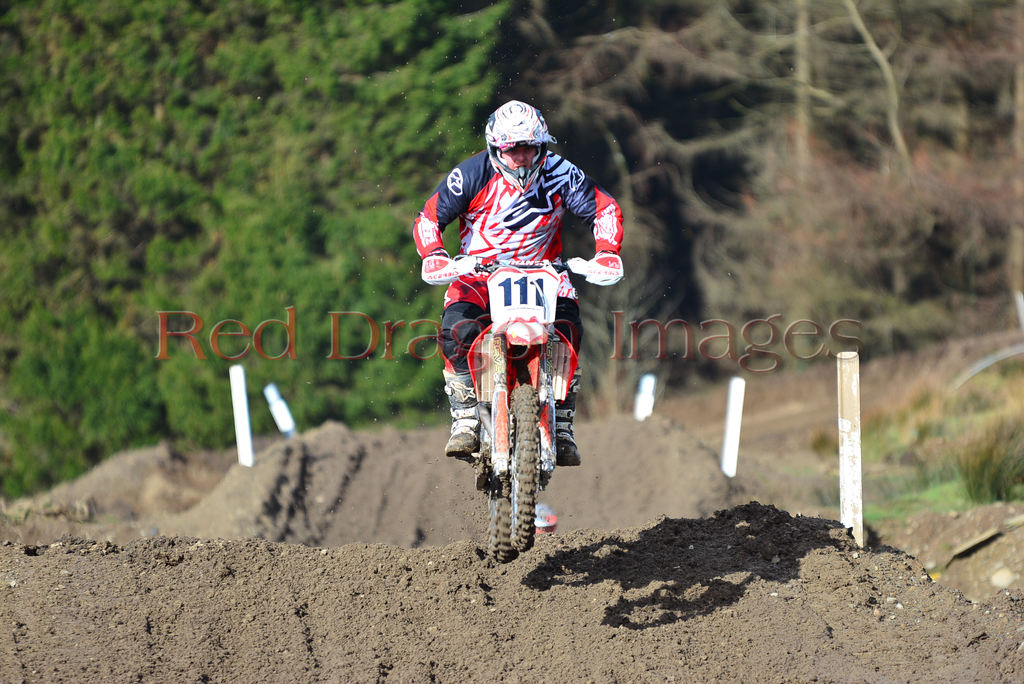Tree: (0, 0, 1023, 499)
